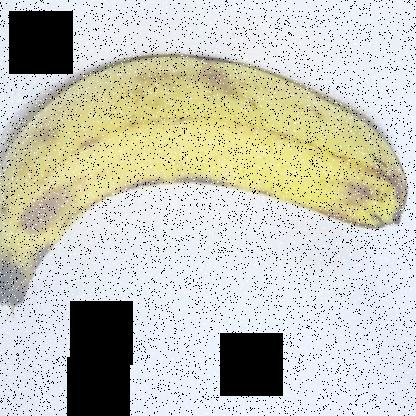ripe: (1, 36, 410, 322)
